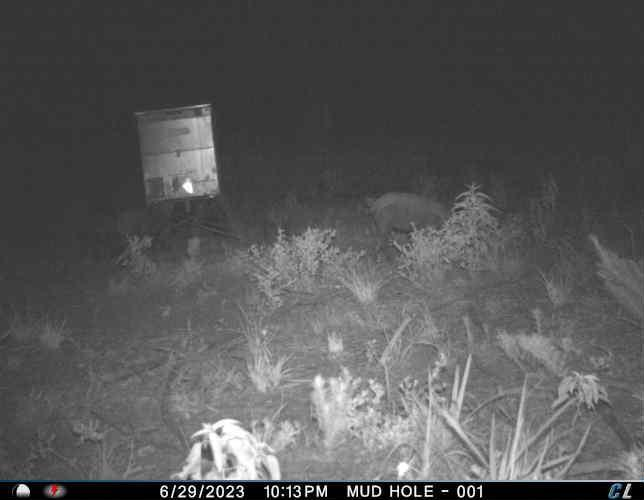Hog: (363, 189, 451, 243)
